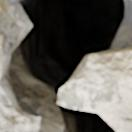broken_brick: (59, 47, 131, 131), (0, 84, 38, 131), (0, 0, 21, 76)
crack: (0, 0, 131, 131)
